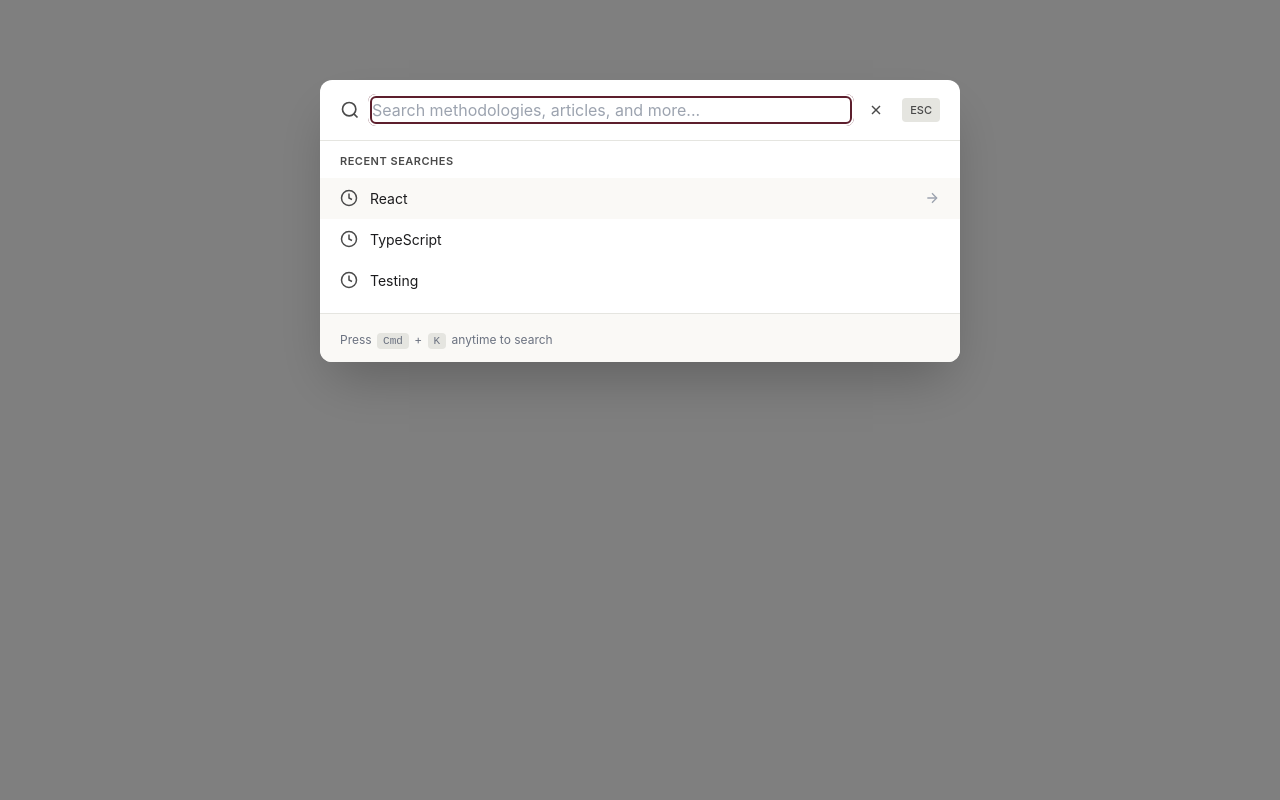
Test: SearchModal › Recent Searches › hides recent searches when typing
The image size is (1280, 800).
Type "test" into the field labelled "Search methodologies, articles, and more..." at (611, 110), box [372,98,850,122]
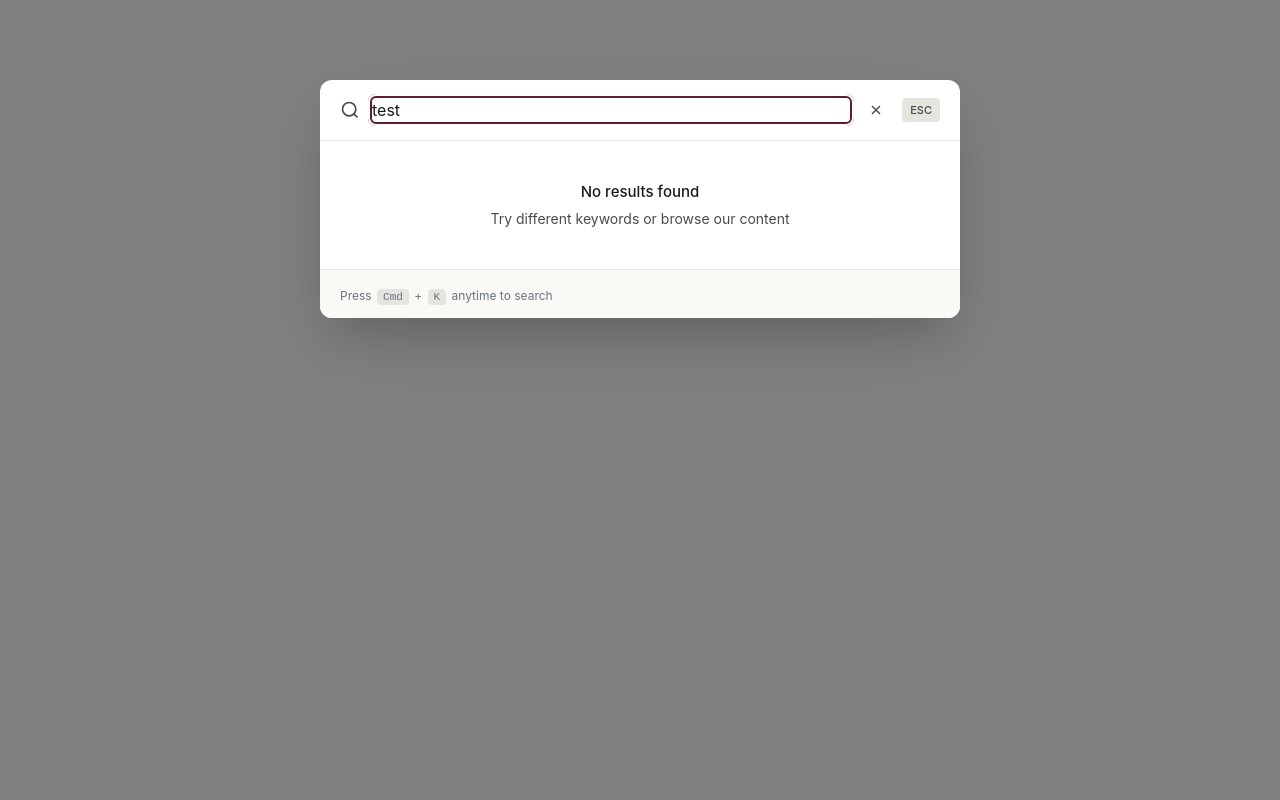
expect the text "Recent searches" is gone: met
